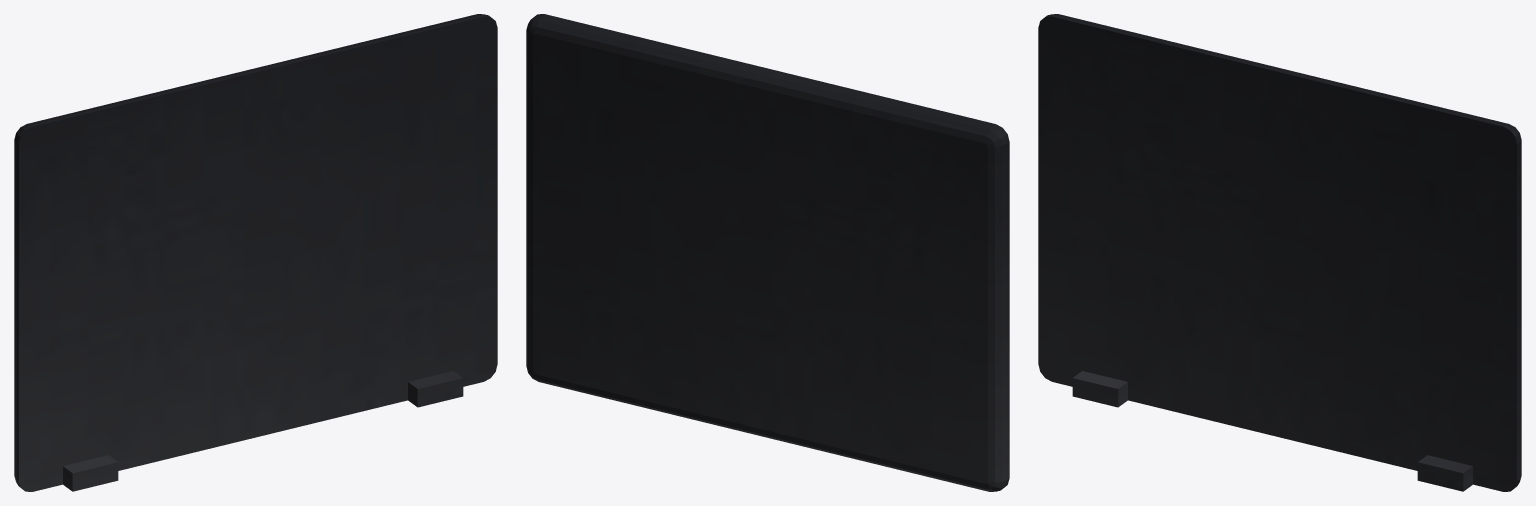
The model's file is acer_laptop_screen.fbx.
3 renders of one model, left to right at view 1: azimuth 30°, elevation 25°; view 2: azimuth 150°, elevation 25°; view 3: azimuth 330°, elevation 25°, orthographic.
Parts seen in each view (by area): view 1: Plane.001; view 2: Plane.001; view 3: Plane.001.
Boxes of the visible parts, x1,y1,x2,y2 form: Plane.001: [14, 14, 497, 491]; Plane.001: [526, 14, 1009, 491]; Plane.001: [1038, 14, 1521, 491].
Size of the model in its own units: 29.5 by 21.5 by 2.1.
1 material, 1 textured.
